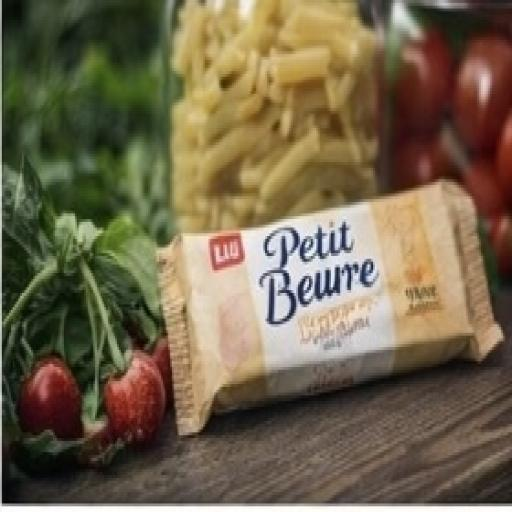petit-beurre: (129, 167, 507, 430)
